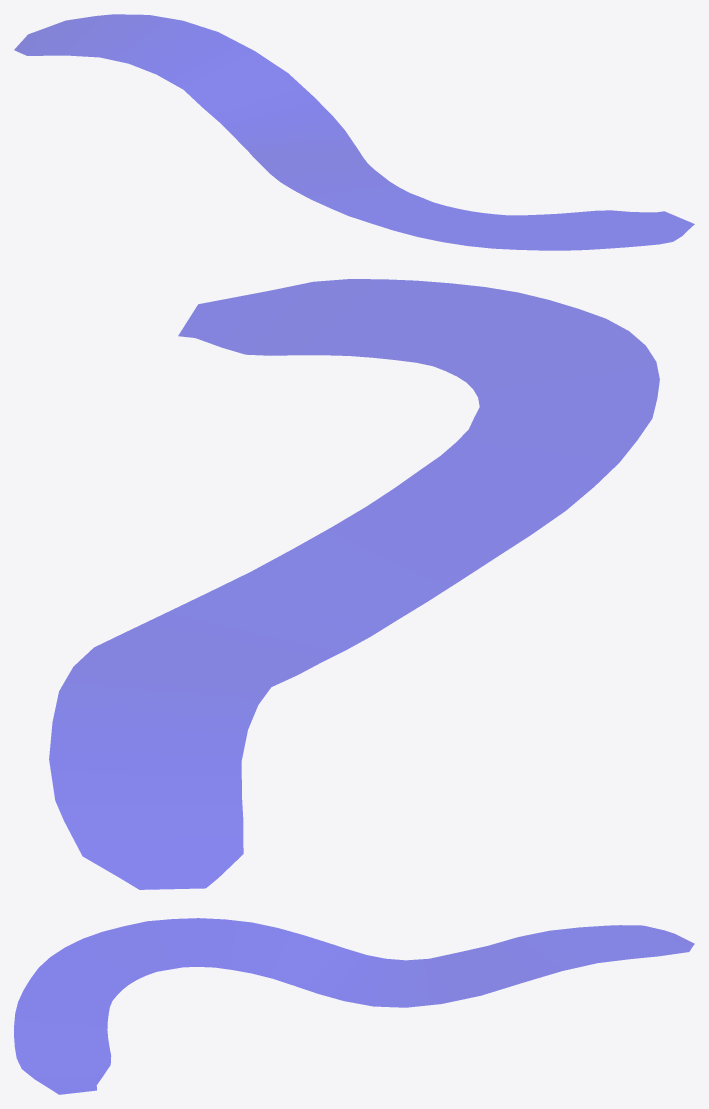
File: track_military_jump_01.fbx
The picture shows the model from 3 angles, top to bottom: view 1: azimuth 30°, elevation 25°; view 2: azimuth 150°, elevation 25°; view 3: azimuth 270°, elevation 25°; orthographic projection. The views are drawn at different scales.
Visible parts, largest first — view 1: track_military_jump_01; view 2: track_military_jump_01; view 3: track_military_jump_01.
Part boxes in pixels (<box>): track_military_jump_01: <box>14,14,694,250</box>; track_military_jump_01: <box>49,279,659,889</box>; track_military_jump_01: <box>14,918,694,1094</box>.
Size of the model in its own units: 191 by 23.9 by 357.
